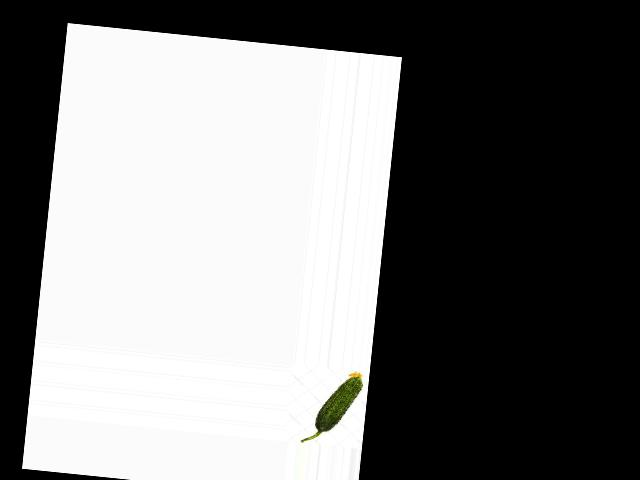cucumber: (301, 366, 364, 447)
